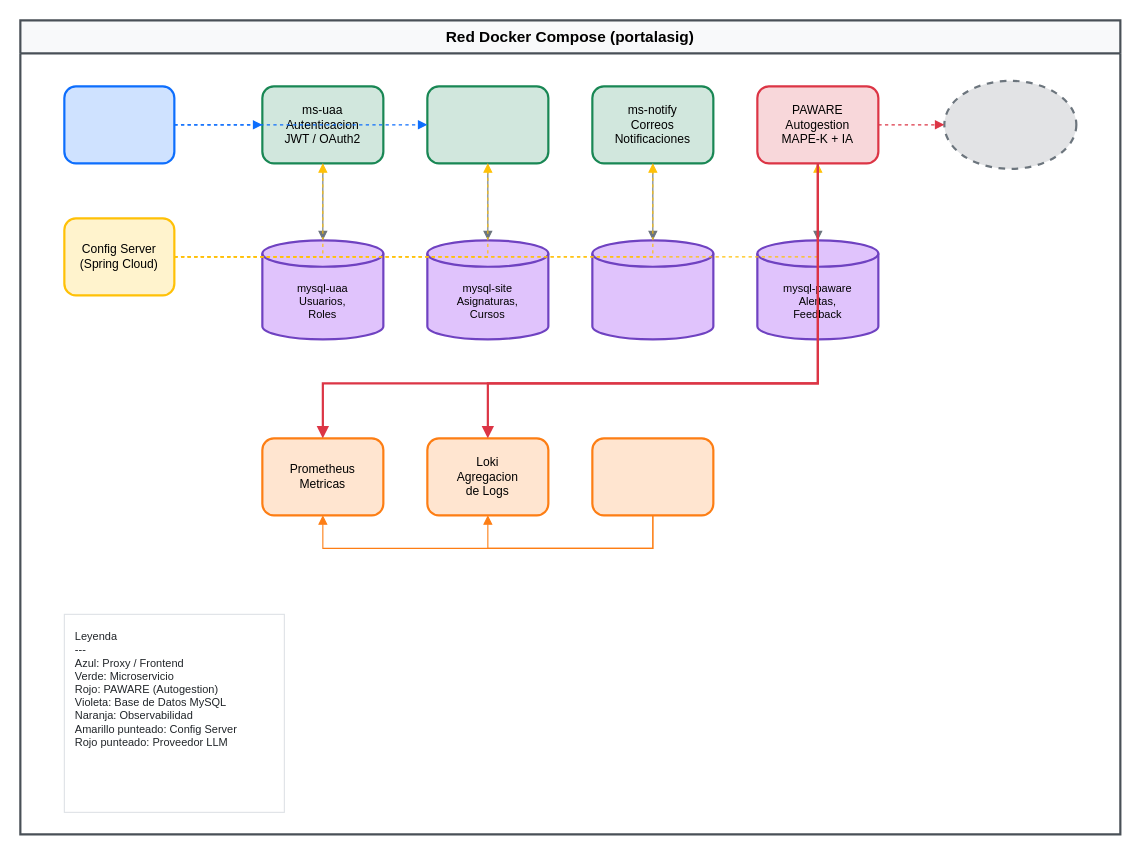
Image size: 1140x854. Some labels were removed from this diagram. The centre of each missing label's shape, as x and y in pixels:
"Grafana Dashboards" belongs at (x=652, y=476).
"ms-site Asignaturas Cursos" belongs at (x=487, y=124).
"mysql-notify Eventos Email" belongs at (x=652, y=289).
"Nginx Proxy Inverso (Vue.js FE)" belongs at (x=119, y=124).
"Proveedor LLM (OpenAI / Gemini)" belongs at (x=1010, y=124).
